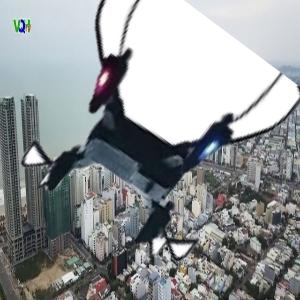drone: (30, 7, 275, 252)
